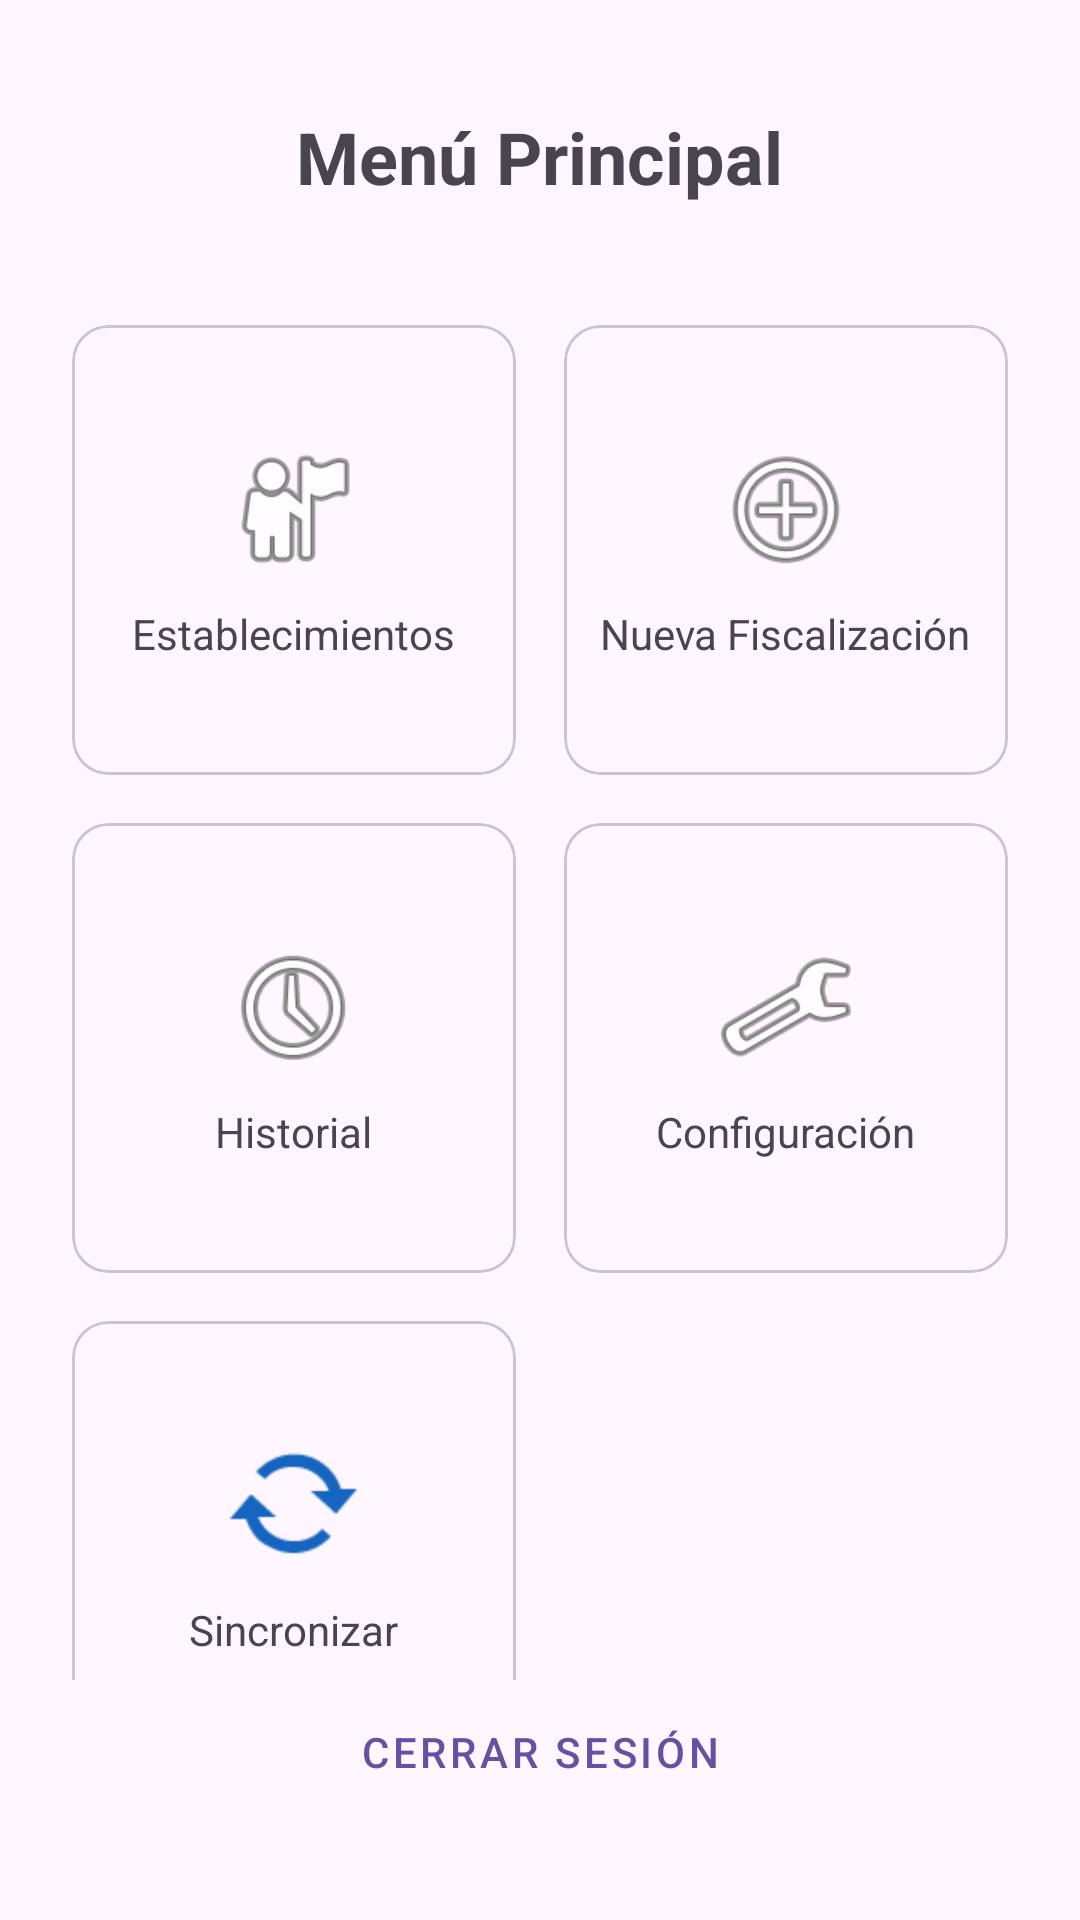

Screen size 1080 x 1920. Icon name, then its box in pixels as (x1, y1, x2, y2):
add: (732, 456, 840, 563)
myplaces: (241, 455, 350, 563)
recent history: (241, 956, 346, 1060)
